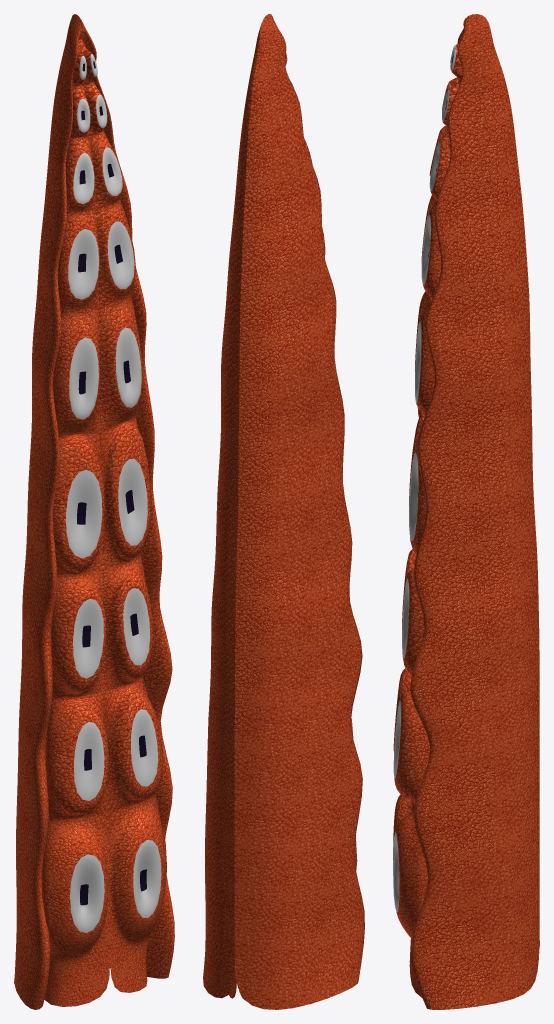
File: kraken.fbx
The picture shows the model from 3 angles, left to right: view 1: azimuth 30°, elevation 25°; view 2: azimuth 150°, elevation 25°; view 3: azimuth 270°, elevation 25°; orthographic projection.
Parts seen in each view (by area): view 1: Kraken; view 2: Kraken; view 3: Kraken.
Boxes of the visible parts, x1,y1,x2,y2 form: Kraken: (14,14,174,1009); Kraken: (203,14,364,1009); Kraken: (393,14,539,1009).
Bounding box in the file's own units: 222 × 1483 × 205.
